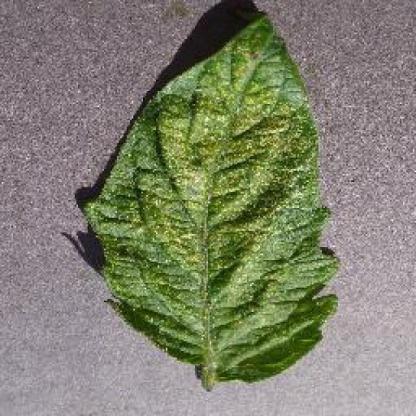Tomato_Spider_Mites: (87, 17, 340, 387)
